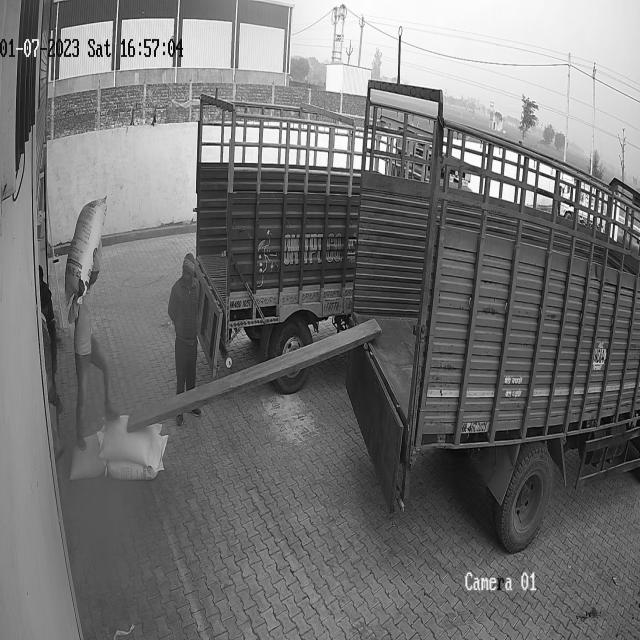sack: (64, 197, 107, 305), (100, 416, 162, 464), (104, 434, 168, 479), (68, 432, 108, 482)
